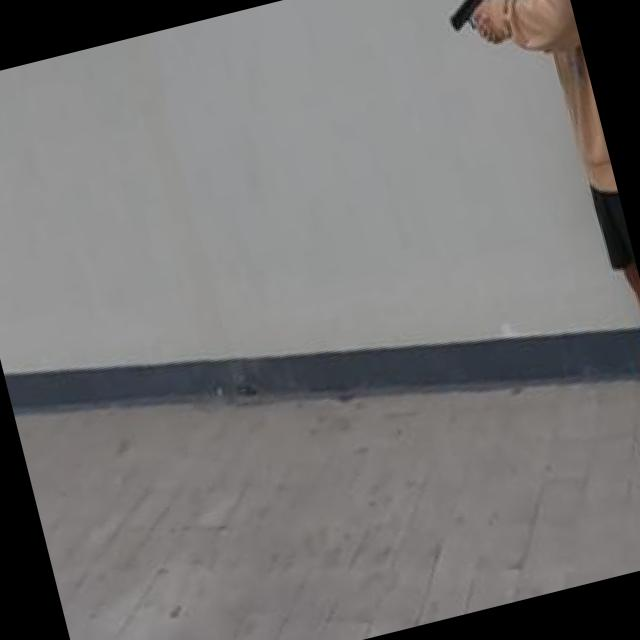Guns: (431, 0, 508, 61)
